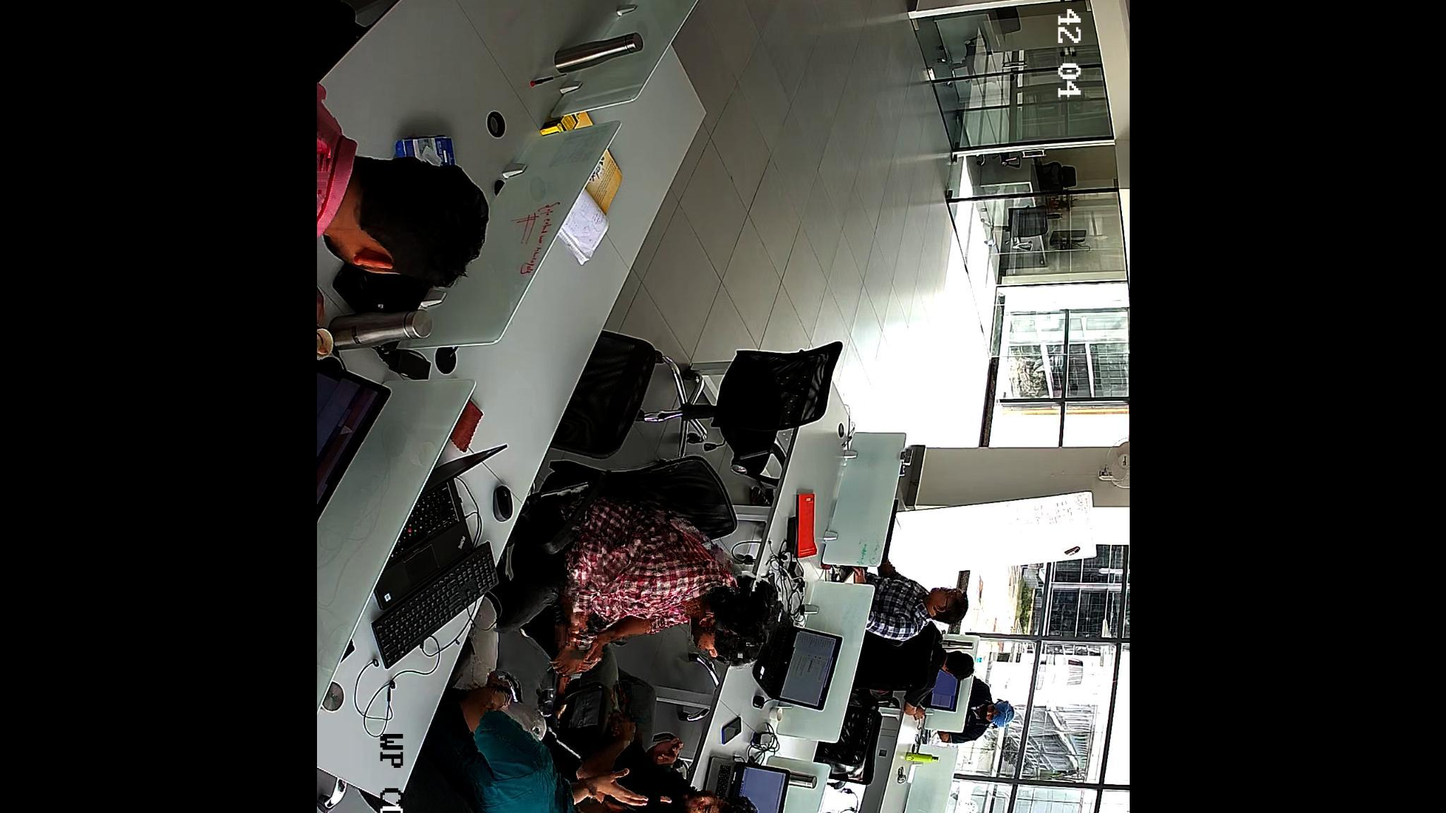gun: (963, 0, 979, 6)
